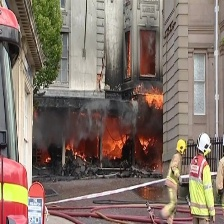fire: (110, 133, 155, 159), (137, 84, 166, 113), (64, 139, 88, 163), (125, 36, 132, 78), (41, 151, 54, 167)
